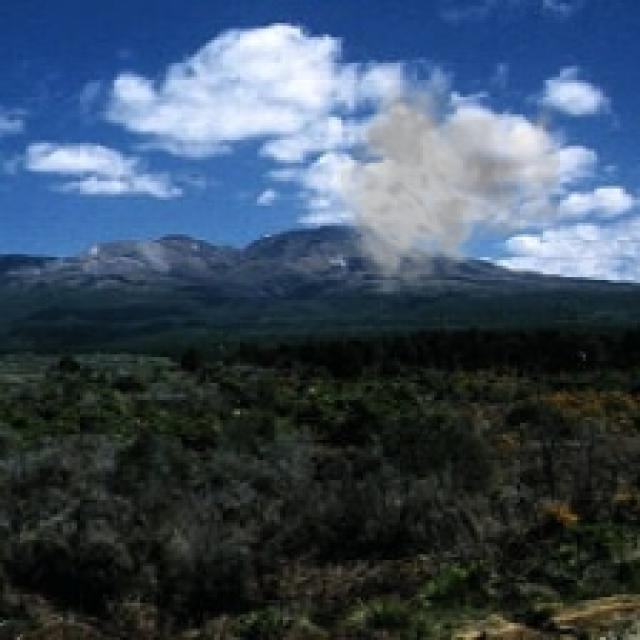Smoke: (334, 62, 580, 298)
